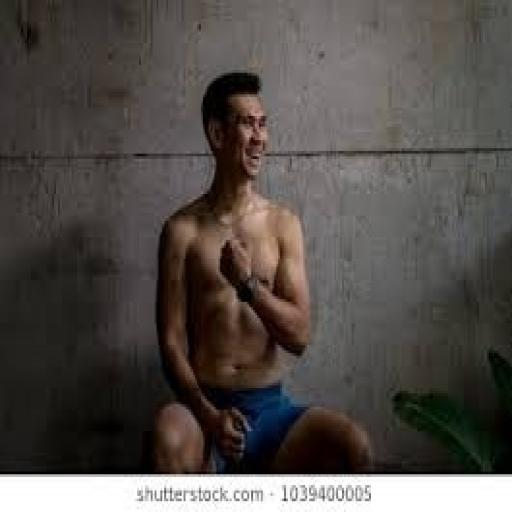sitting: (151, 68, 373, 472)
